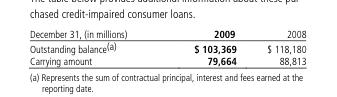table: (28, 28, 305, 66)
table column: (28, 28, 159, 66), (159, 28, 251, 66), (251, 28, 305, 66)
table column header: (28, 28, 305, 40)
table row: (28, 40, 305, 55), (28, 28, 305, 40), (28, 55, 305, 66)
